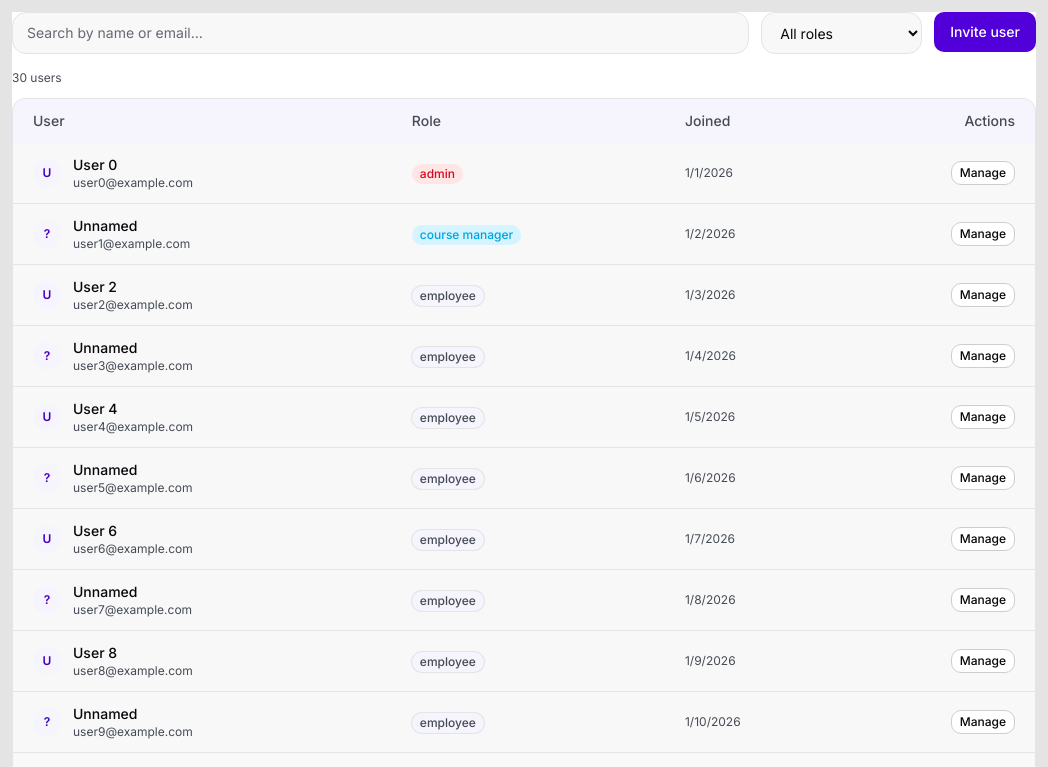
it: UserList › filters by search and resets page to 1
The width and height of the screenshot is (1048, 767).
Type "user2" into the field with placeholder "Search by name or email…" at coordinates (381, 33), box [12,12,749,54]
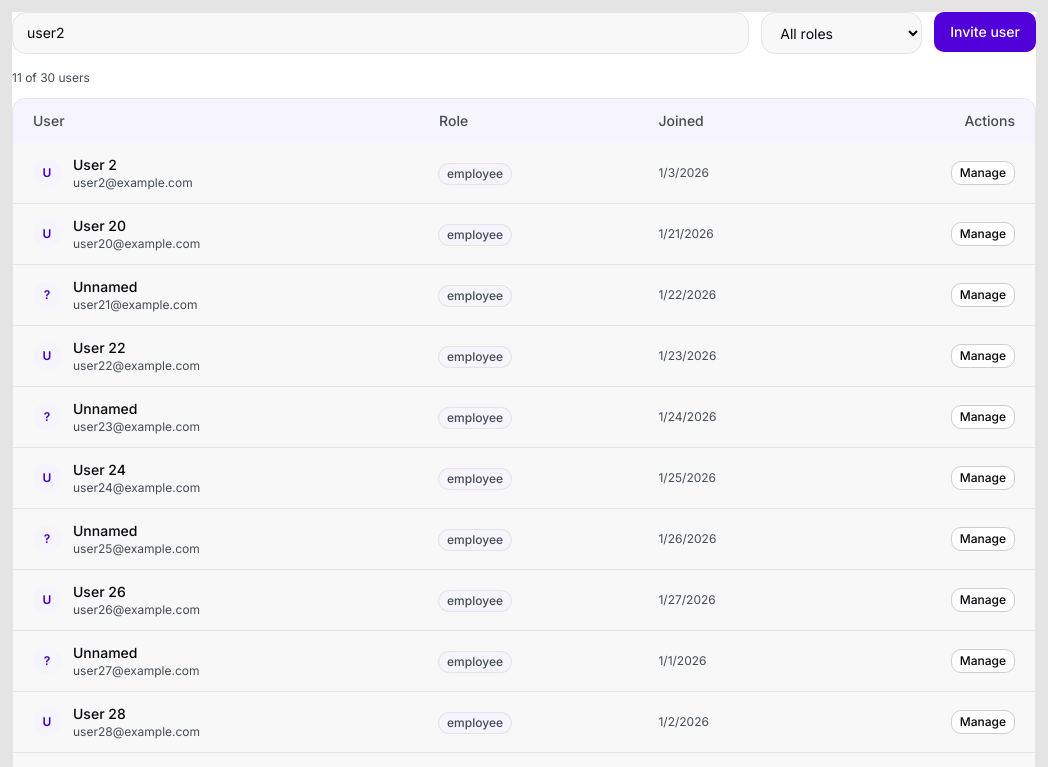
Expected: the text "11 of 30 users" is shown, [12,70,90,85]
